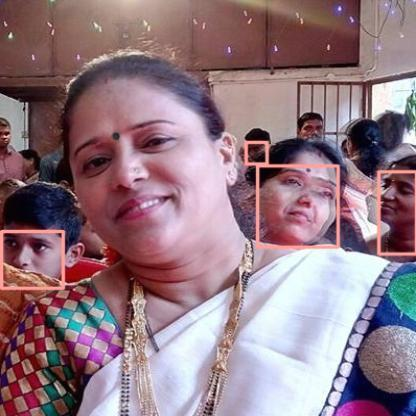without_mask: (257, 166, 338, 247), (1, 231, 63, 288), (378, 172, 415, 255), (246, 142, 267, 163)
